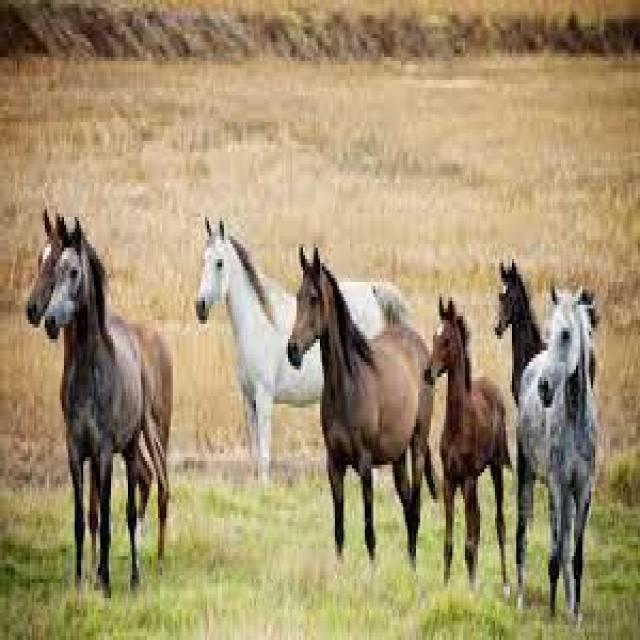horse: (284, 238, 432, 568), (44, 213, 150, 606), (420, 288, 516, 606), (184, 213, 286, 497), (516, 277, 593, 605), (490, 258, 536, 401)
